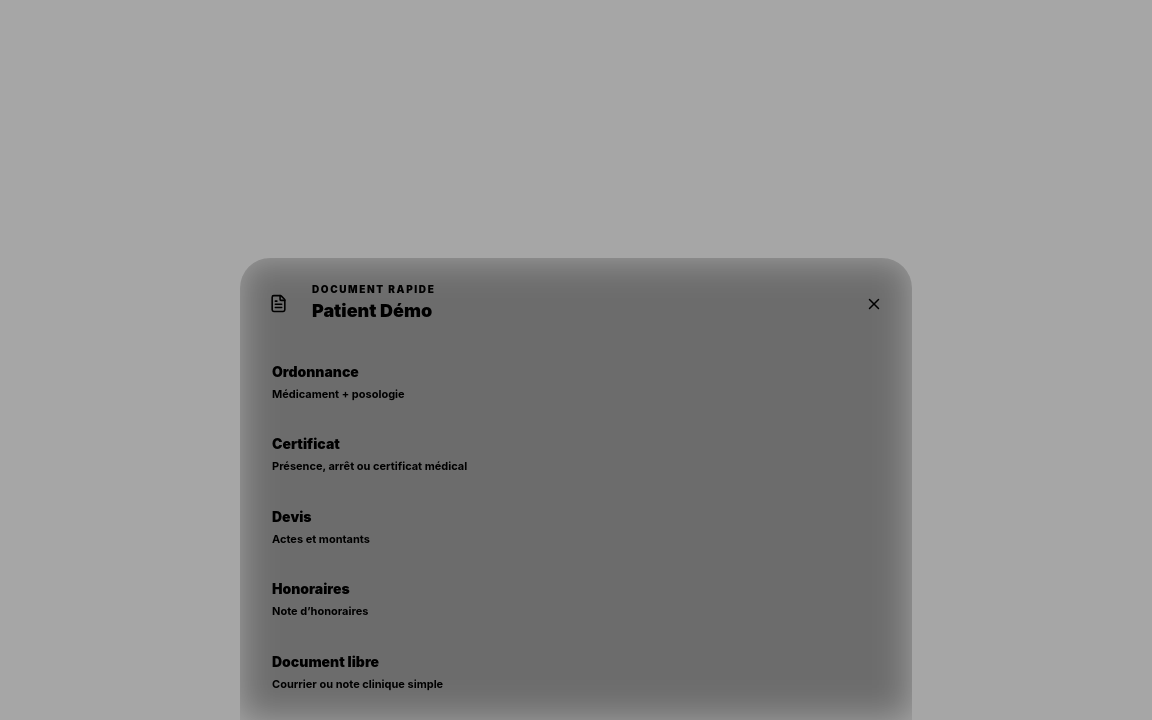
it: MobileQuickDocumentSheet › previews then simulates archive without any network in preview mode
The image size is (1152, 720).
Click the button "Certificat Présence, arrêt ou certificat médical": (306, 444) left=256, top=422, right=896, bottom=486
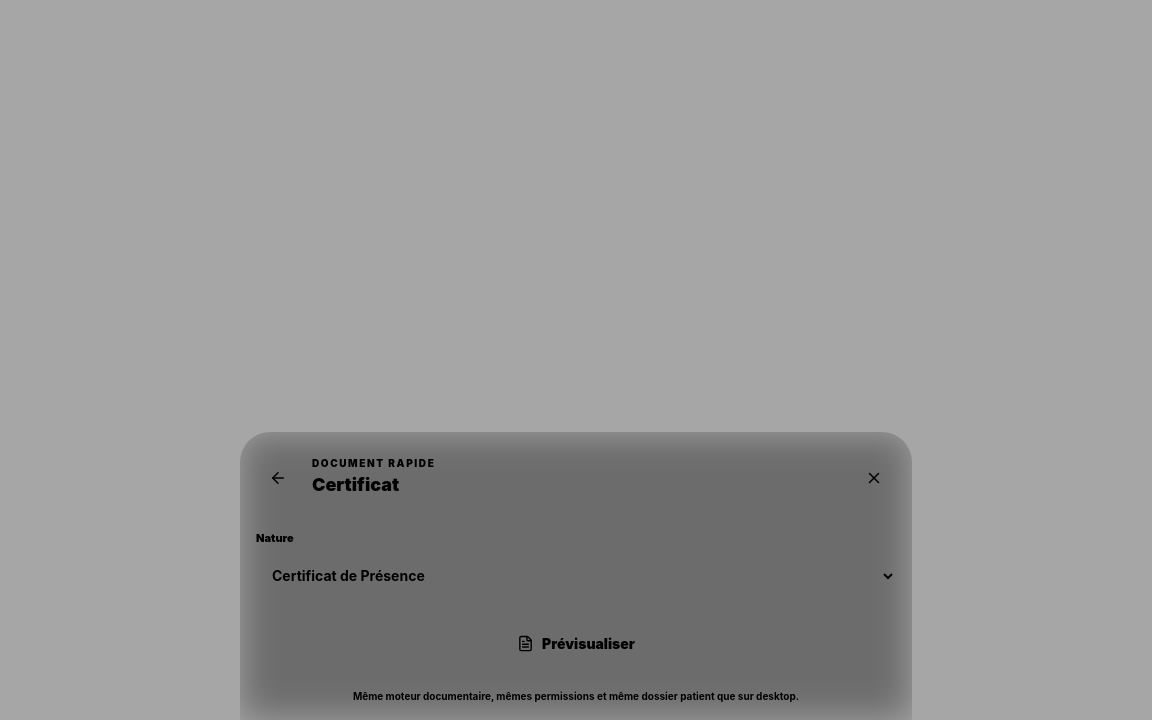
Click the button "Prévisualiser": (576, 644) left=256, top=616, right=896, bottom=672
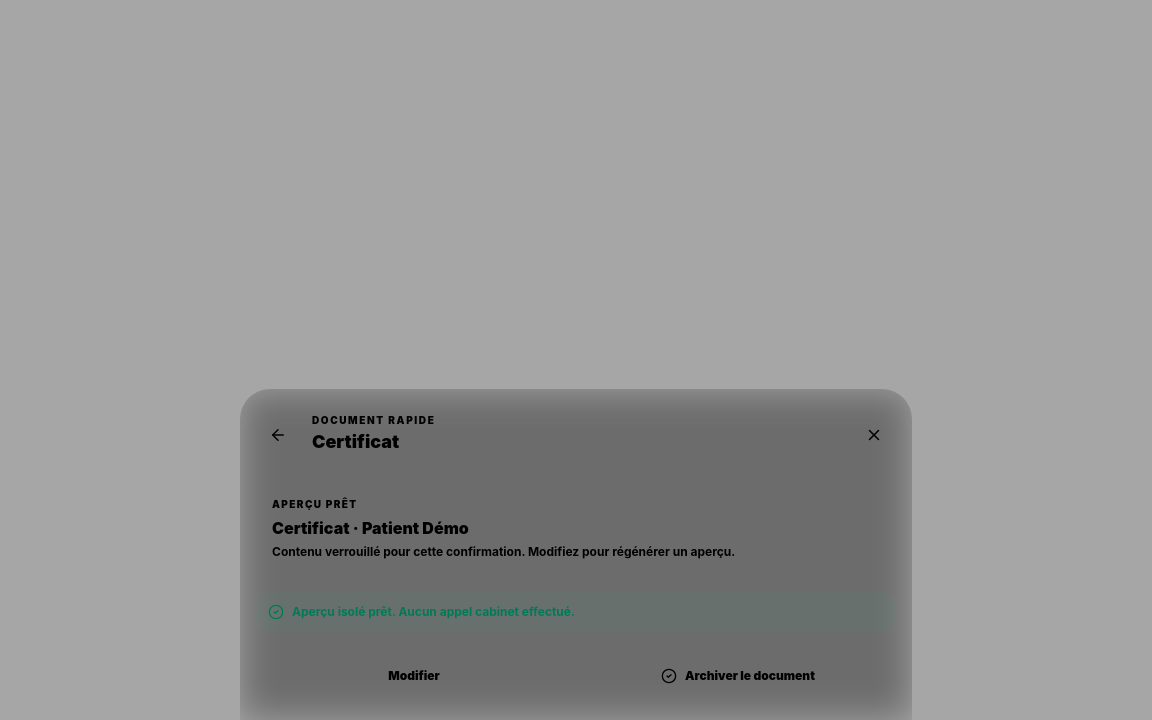
Result: the text "Aperçu isolé prêt. Aucun appel cabinet effectué." is shown at left=256, top=592, right=896, bottom=632
Click the button "Archiver le document": (738, 676) left=580, top=648, right=896, bottom=704
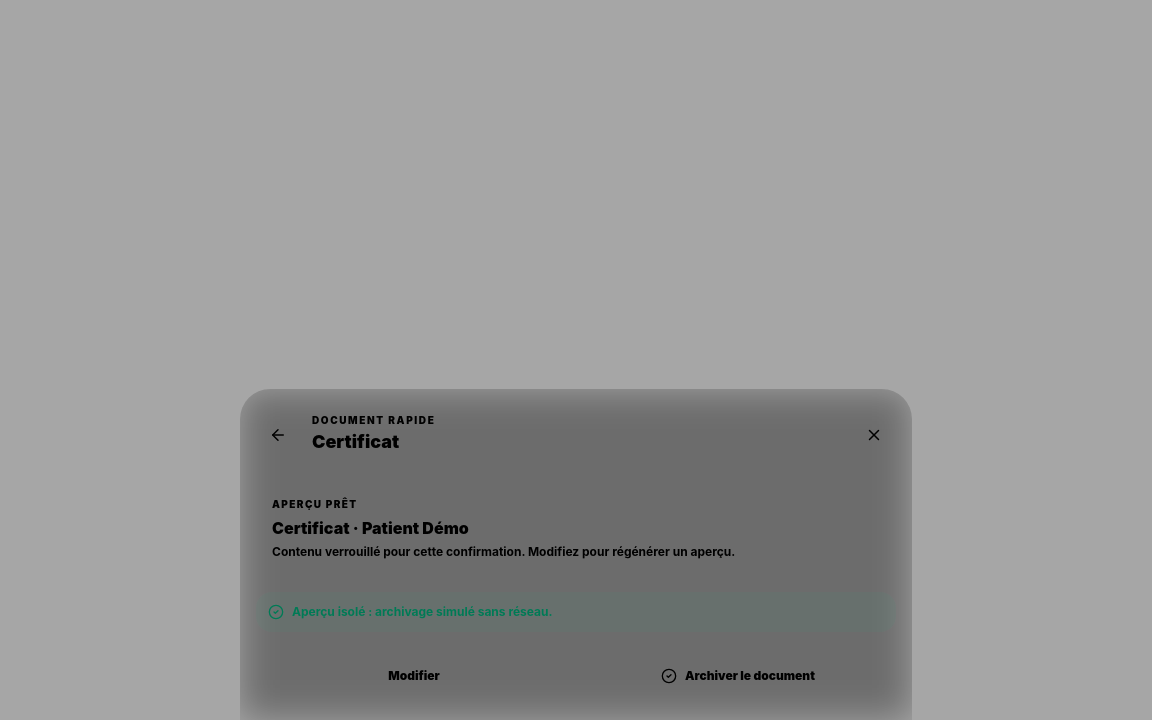
Result: the text "Aperçu isolé : archivage simulé sans réseau." is shown at left=256, top=592, right=896, bottom=632
